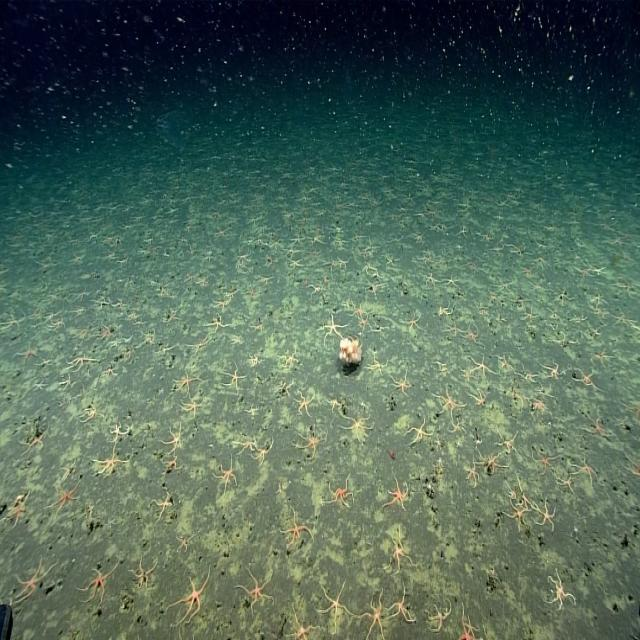brittle-stars: (172, 569, 213, 625), (12, 556, 54, 602), (318, 583, 357, 625), (79, 564, 112, 610), (545, 568, 575, 616), (239, 567, 274, 608), (360, 590, 388, 640), (92, 444, 128, 477), (52, 475, 80, 516), (20, 418, 50, 454), (386, 532, 412, 572), (130, 556, 157, 594), (284, 508, 311, 545), (390, 586, 416, 624), (287, 609, 318, 640), (327, 475, 353, 511), (382, 477, 408, 512), (572, 454, 601, 485), (436, 385, 463, 418), (534, 496, 558, 531), (404, 414, 432, 444), (426, 598, 452, 630), (214, 458, 237, 494), (342, 412, 373, 438), (504, 499, 528, 532), (298, 426, 324, 456), (531, 445, 557, 474), (152, 487, 174, 520), (391, 366, 413, 399), (164, 422, 187, 452), (469, 351, 492, 381), (181, 395, 206, 422), (321, 312, 346, 339), (174, 367, 195, 398), (496, 428, 518, 456), (188, 332, 213, 356), (479, 449, 504, 473), (295, 388, 315, 417), (540, 357, 564, 380), (223, 364, 245, 389), (277, 347, 302, 369), (65, 355, 97, 372), (365, 354, 389, 376), (204, 314, 230, 334), (530, 390, 549, 416), (464, 461, 482, 488), (234, 436, 257, 456), (469, 388, 489, 411), (444, 317, 464, 338), (406, 309, 424, 332), (519, 363, 538, 384), (82, 402, 99, 424), (464, 322, 478, 348), (161, 454, 180, 472), (110, 422, 127, 442), (464, 614, 479, 636), (18, 344, 38, 360), (163, 306, 180, 324), (211, 298, 231, 313), (422, 272, 439, 289), (98, 322, 114, 340), (32, 376, 47, 394), (351, 299, 366, 317), (444, 271, 458, 290), (355, 316, 371, 332), (518, 262, 534, 278), (417, 251, 434, 266), (48, 316, 66, 330), (523, 306, 537, 324), (384, 250, 397, 269), (216, 224, 229, 242), (245, 283, 256, 302), (104, 364, 117, 380), (247, 353, 261, 367), (59, 374, 72, 389), (197, 274, 210, 289), (434, 434, 443, 454), (290, 236, 306, 246), (128, 310, 136, 321)
